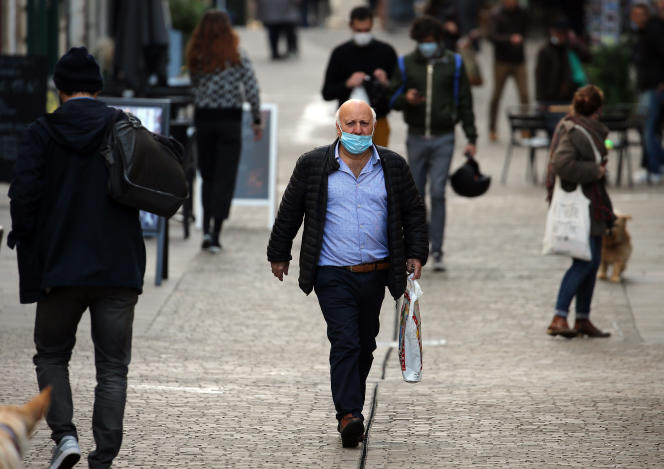with_incorrect_mask: (341, 111, 375, 153)
with_mask: (350, 15, 374, 43)
